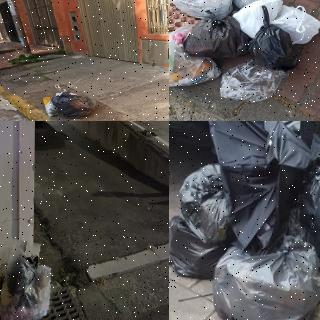Garbage: (209, 227, 320, 320), (0, 240, 59, 320), (180, 163, 236, 239), (236, 0, 320, 46), (250, 7, 302, 73), (169, 27, 222, 85), (218, 64, 294, 104), (186, 10, 252, 56), (49, 89, 96, 120), (171, 0, 235, 19)
